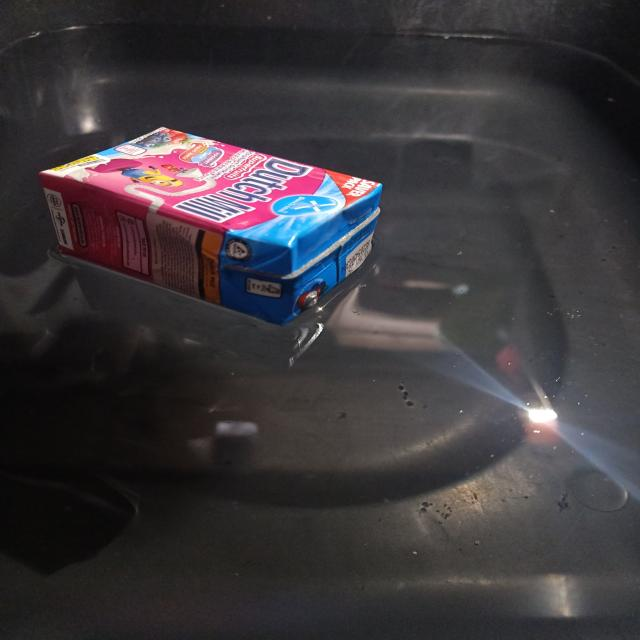Cardboard Box: (40, 127, 383, 325)
